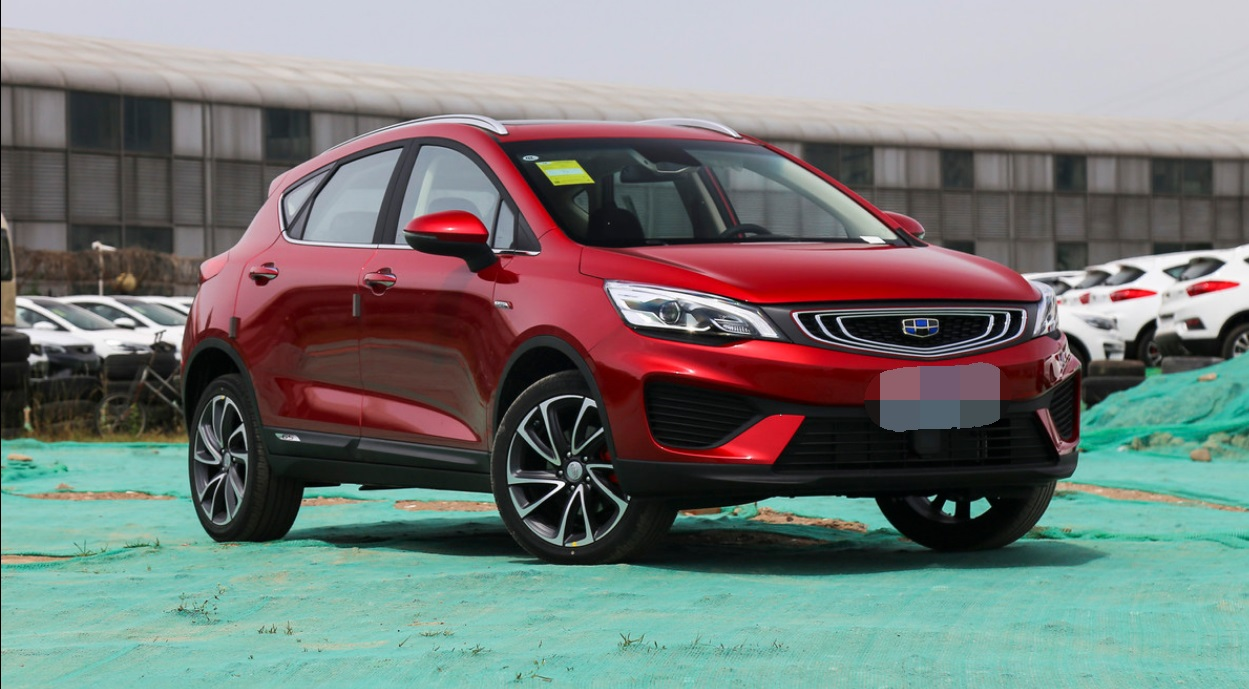SUV: (178, 112, 1084, 570)
